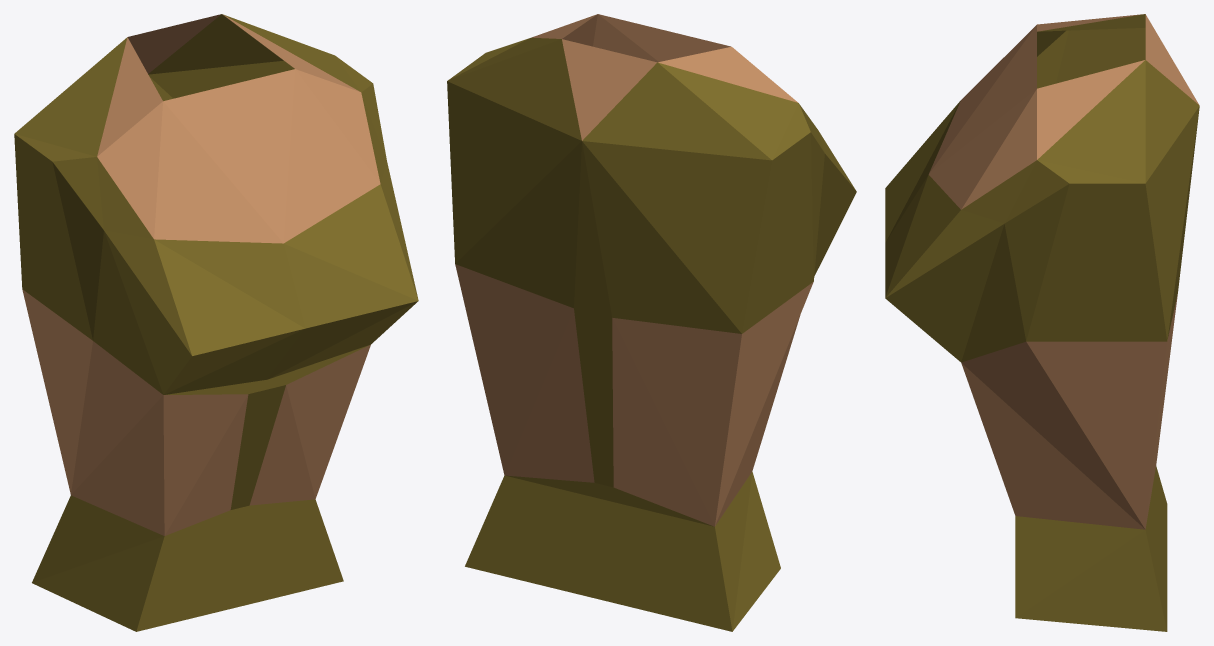
Rendered from model_469_idk.obj.
3 renders of one model, left to right at view 1: azimuth 30°, elevation 25°; view 2: azimuth 150°, elevation 25°; view 3: azimuth 270°, elevation 25°, orthographic.
Visible parts, largest first — view 1: 469; view 2: 469; view 3: 469.
Part boxes in pixels (bbox=[...]): 469: bbox=[14, 14, 418, 631]; 469: bbox=[447, 14, 856, 631]; 469: bbox=[885, 14, 1199, 631].
Size of the model in its own units: 34 by 54 by 29.
